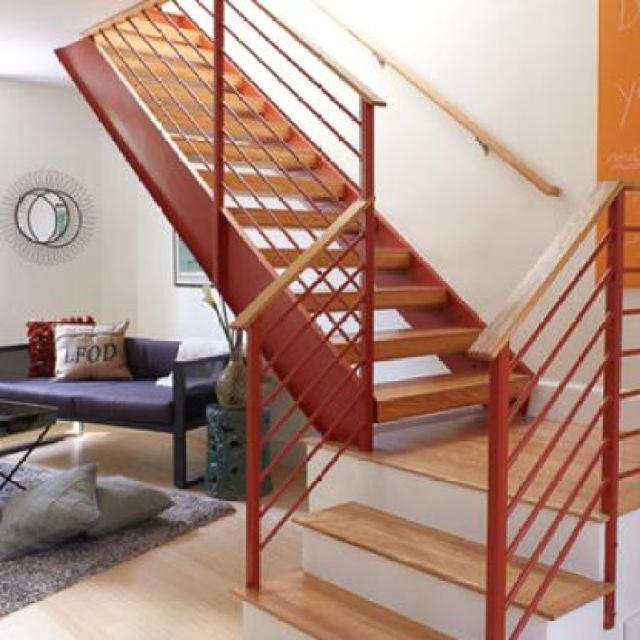stair: (22, 0, 639, 638)
